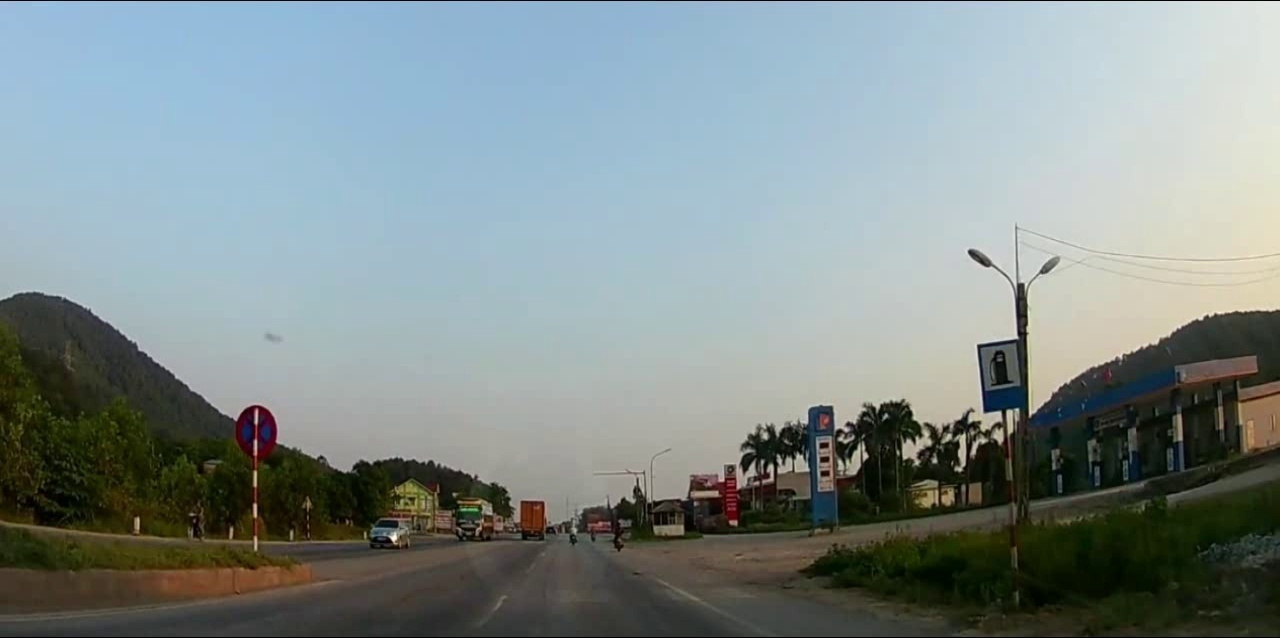Bien khac: (974, 337, 1030, 413)
